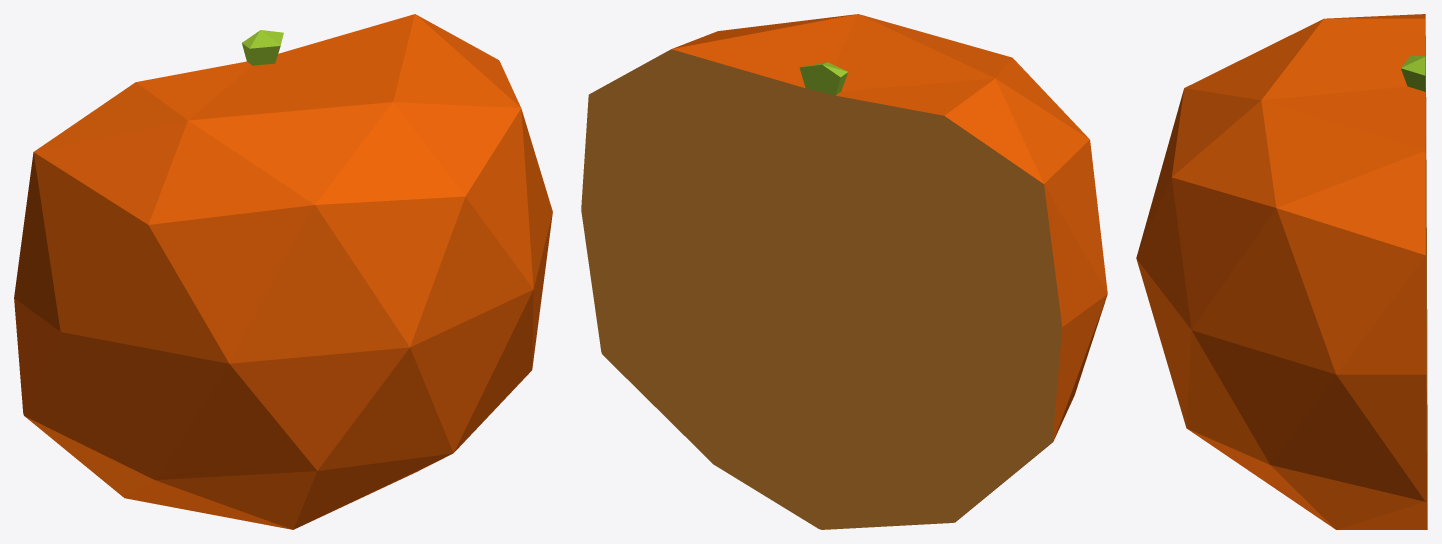
Rendered from OrangeHalf2.fbx.
3 views of the same model, side by side, from view 1: azimuth 30°, elevation 25°; view 2: azimuth 150°, elevation 25°; view 3: azimuth 270°, elevation 25° (orthographic). The views are drawn at different scales.
Visible parts, largest first — view 1: OrangeHalf2; view 2: OrangeHalf2; view 3: OrangeHalf2.
Boxes of the visible parts, left/top/right/bottom form: OrangeHalf2: left=14, top=14, right=552, bottom=529; OrangeHalf2: left=581, top=14, right=1107, bottom=529; OrangeHalf2: left=1136, top=14, right=1427, bottom=529.
Size of the model in its own units: 194 by 179 by 103.
